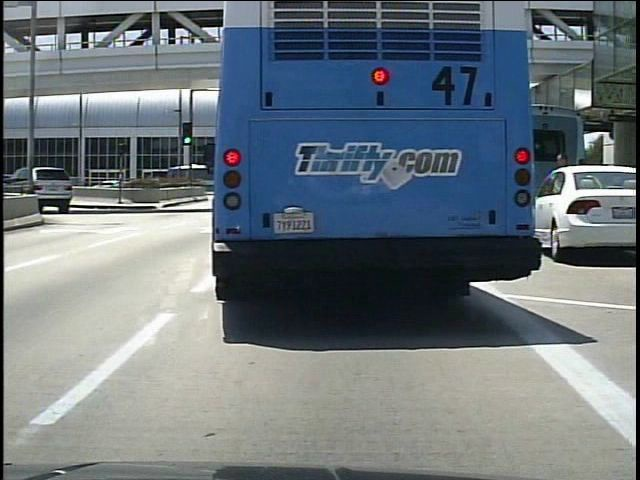person: (549, 150, 578, 247)
